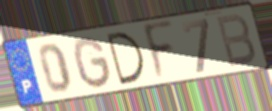0: (38, 42, 75, 97)
7: (181, 17, 211, 74)
B: (214, 12, 258, 69)
D: (104, 30, 147, 87)
F: (141, 18, 176, 86)
G: (72, 35, 115, 91)
